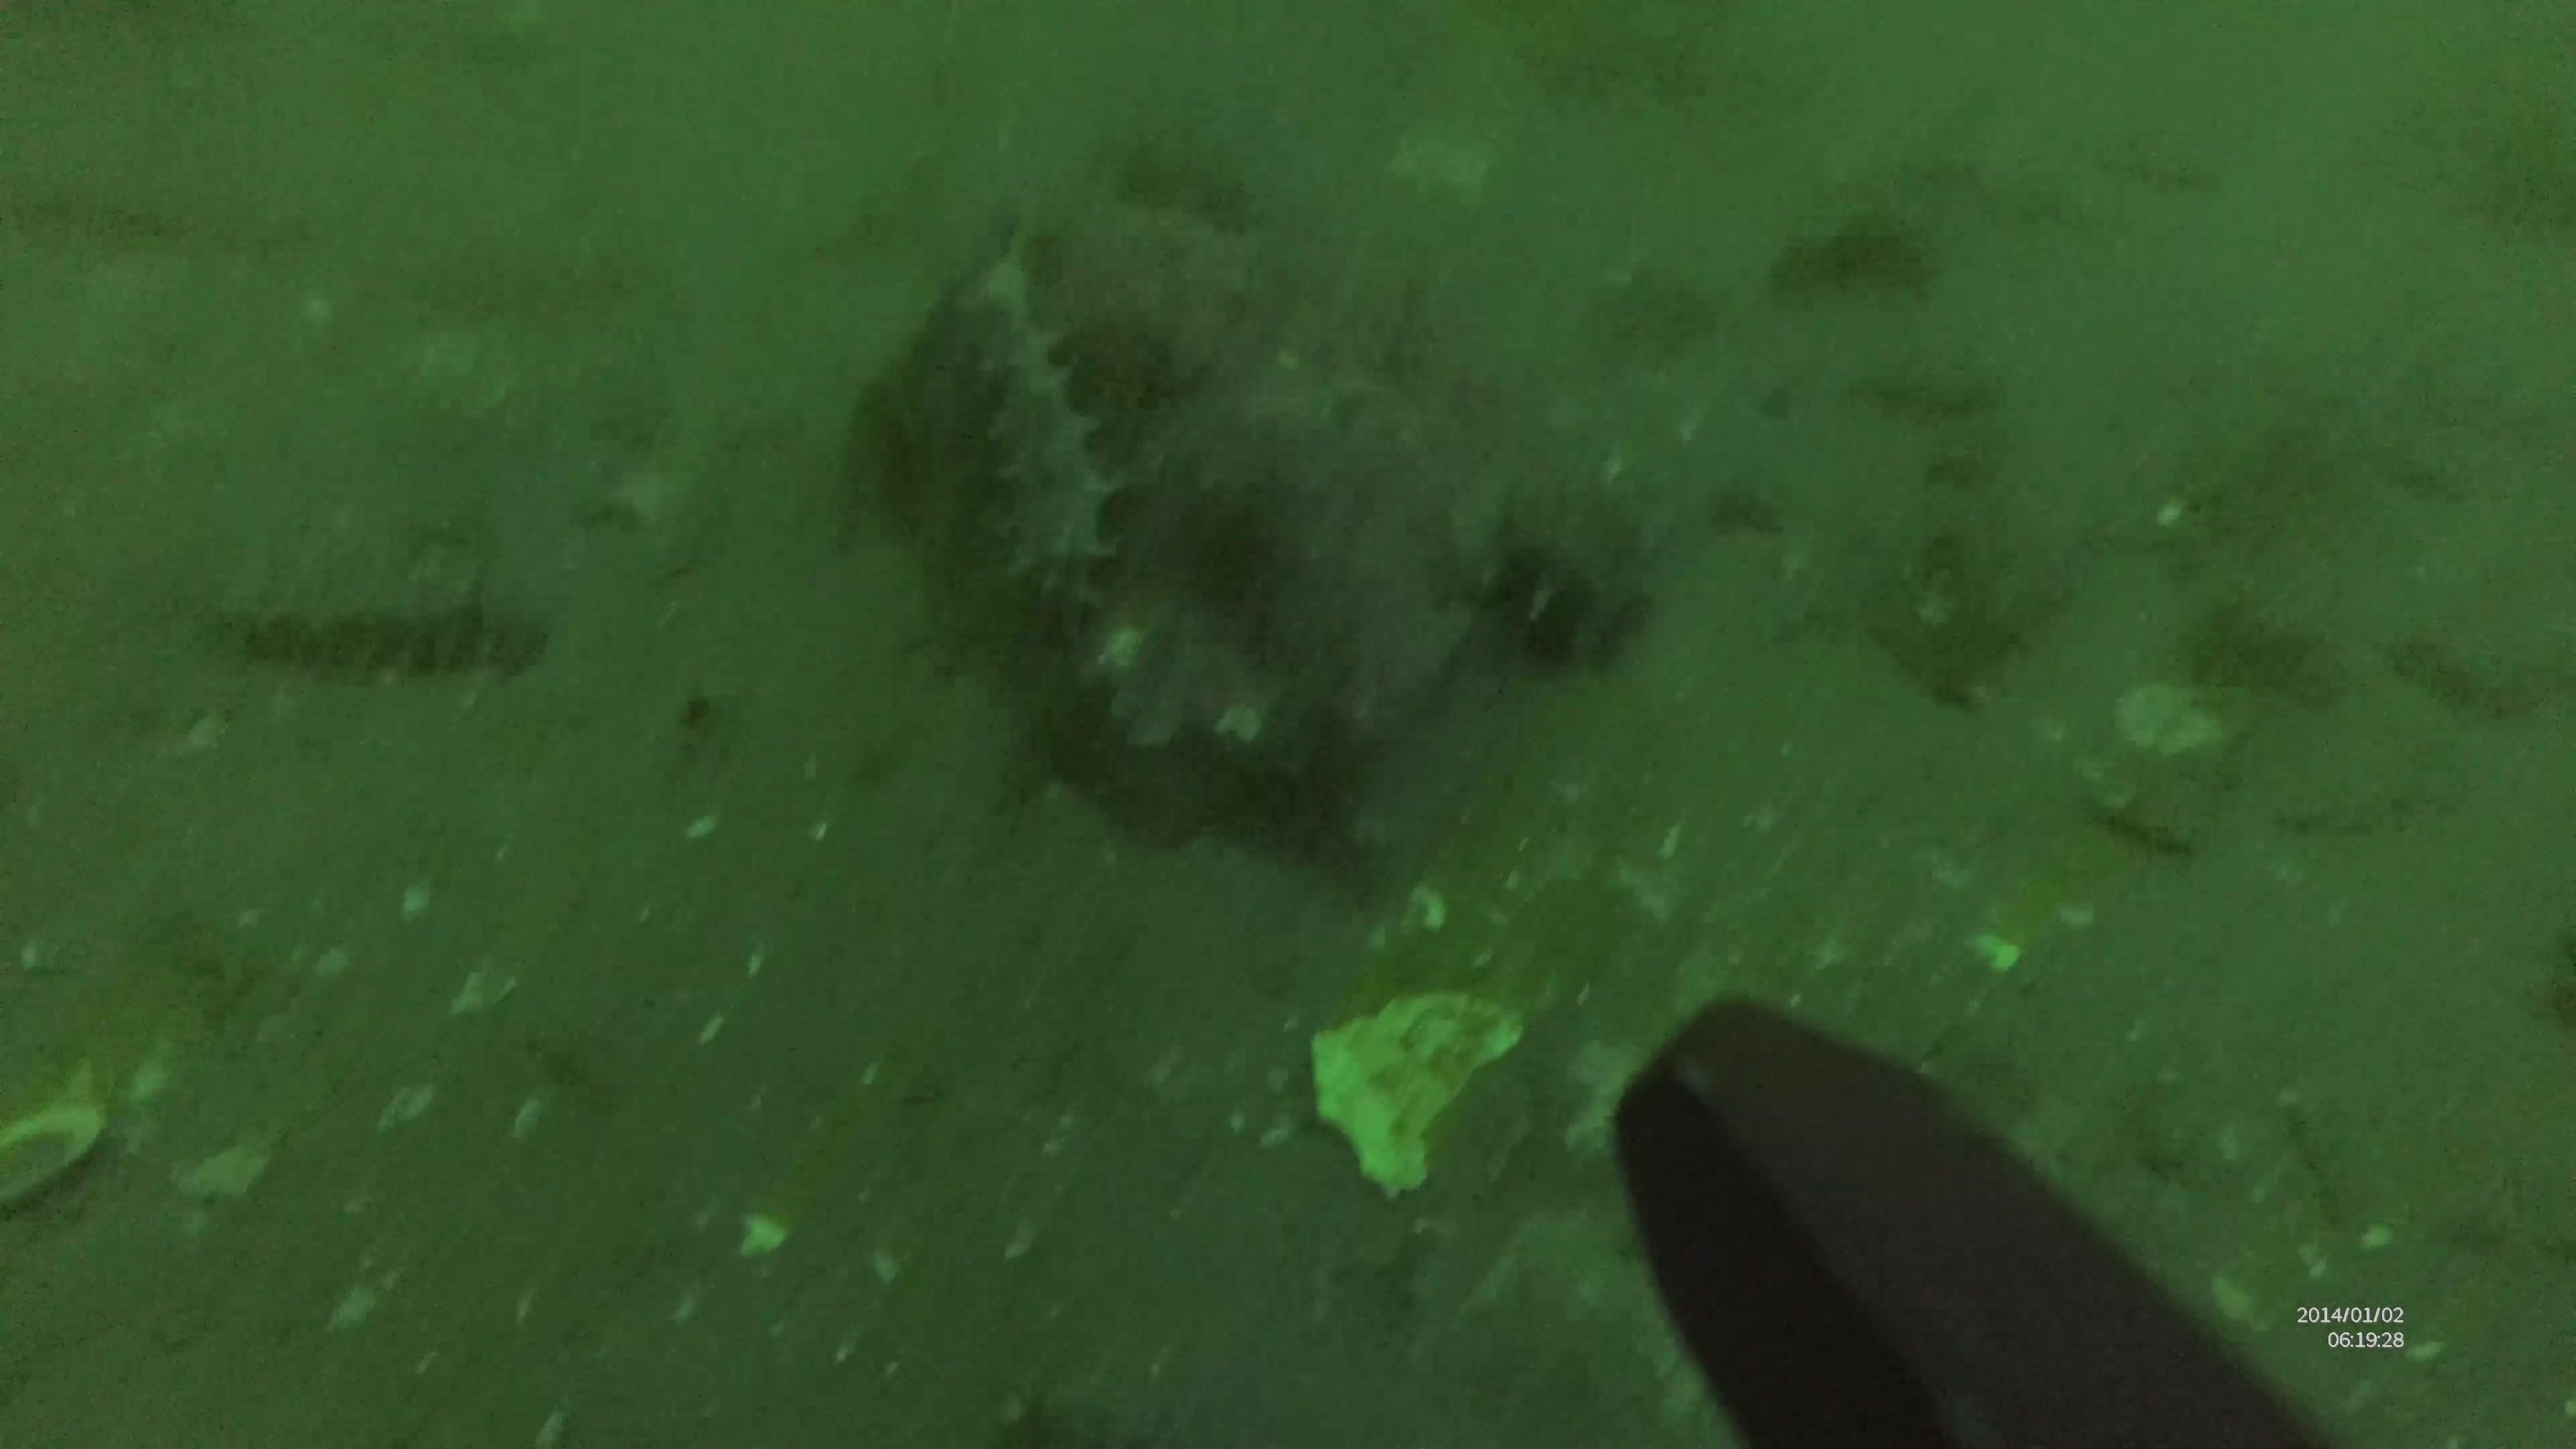holothurian: (943, 255, 1123, 639), (234, 591, 547, 685)
scallop: (1380, 113, 1507, 207)
